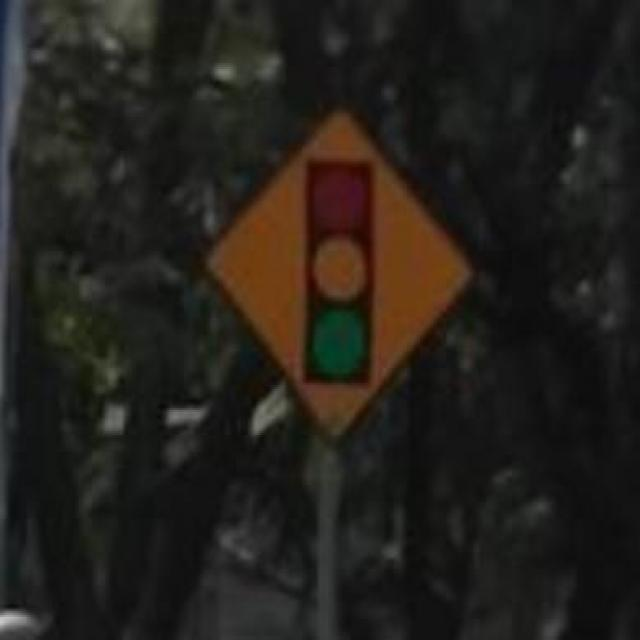traffic sign: (225, 111, 468, 431)
